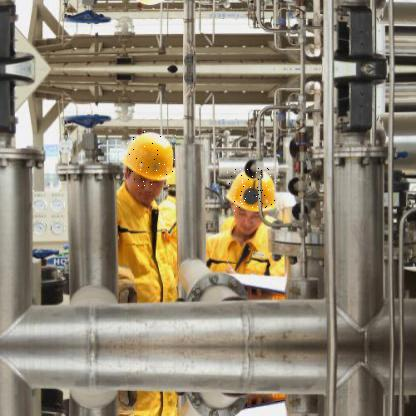safetyhelmet: (127, 129, 177, 188), (226, 168, 277, 212)
